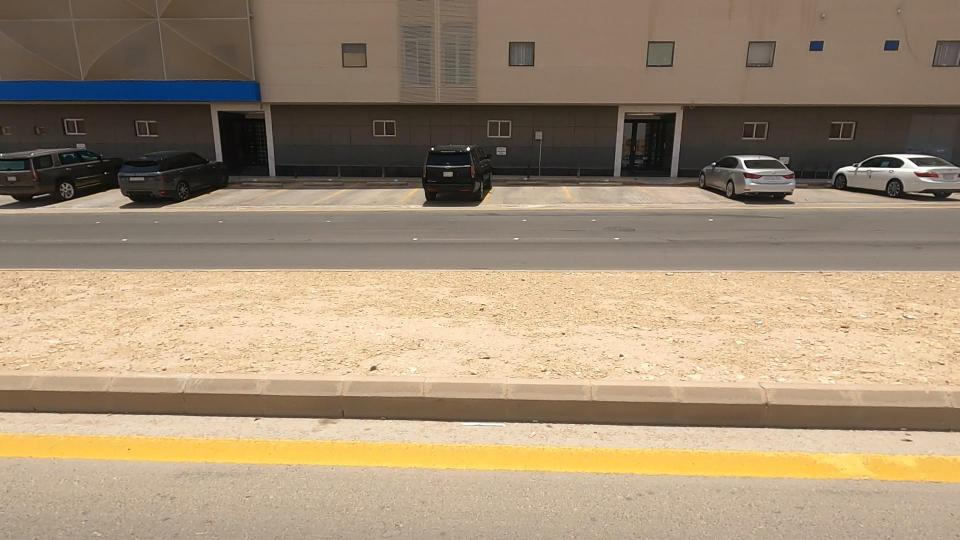CLUTTER_SIDEWALK: (312, 216, 960, 449), (0, 205, 631, 433)
